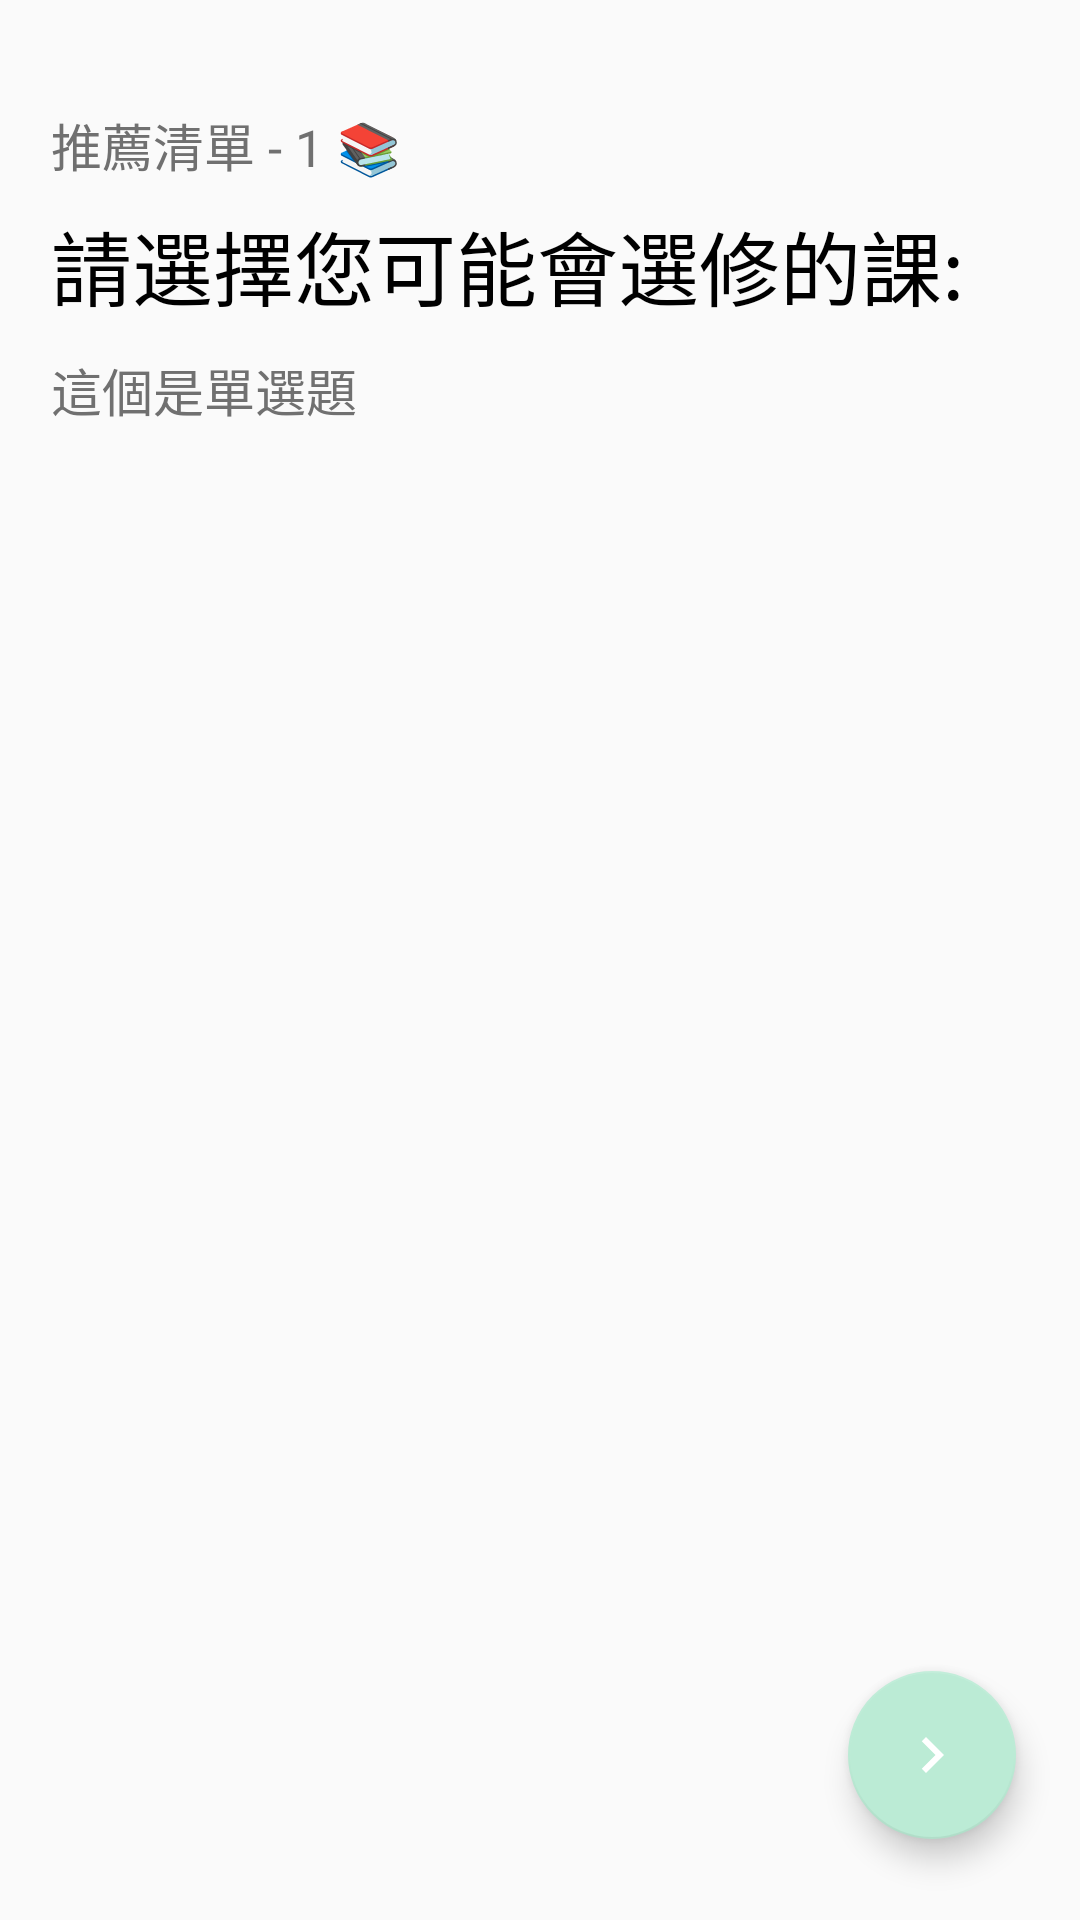

Point at icon controls on the screen. Image size 1080 × 1920, points as (x,y).
next: (932,1755)
